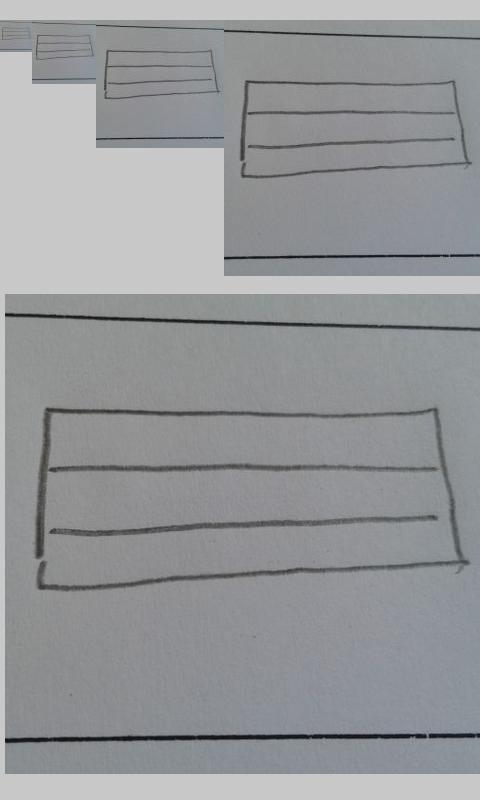list_view: (33, 403, 464, 595), (239, 74, 470, 184), (104, 49, 219, 100), (36, 34, 94, 61), (1, 26, 32, 41)
